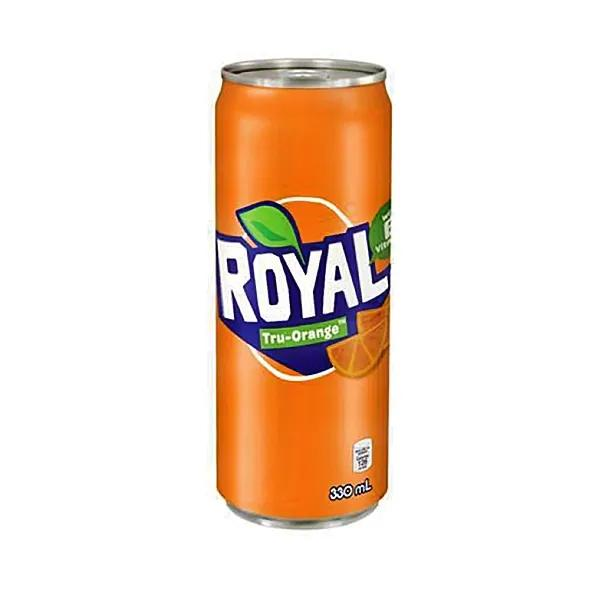can: (215, 58, 391, 526)
